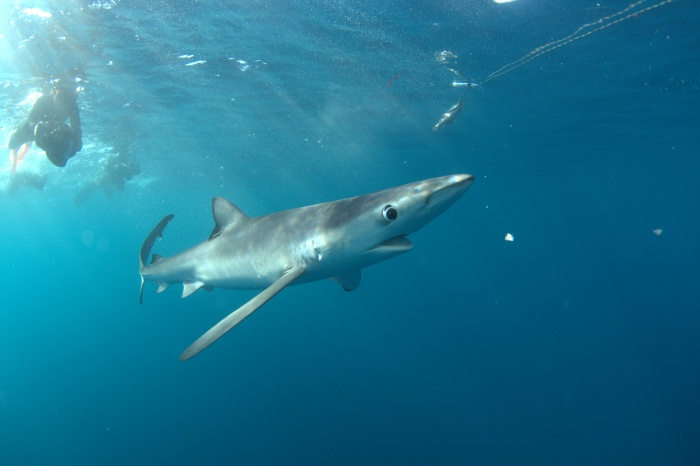Azul: (113, 166, 508, 376)
